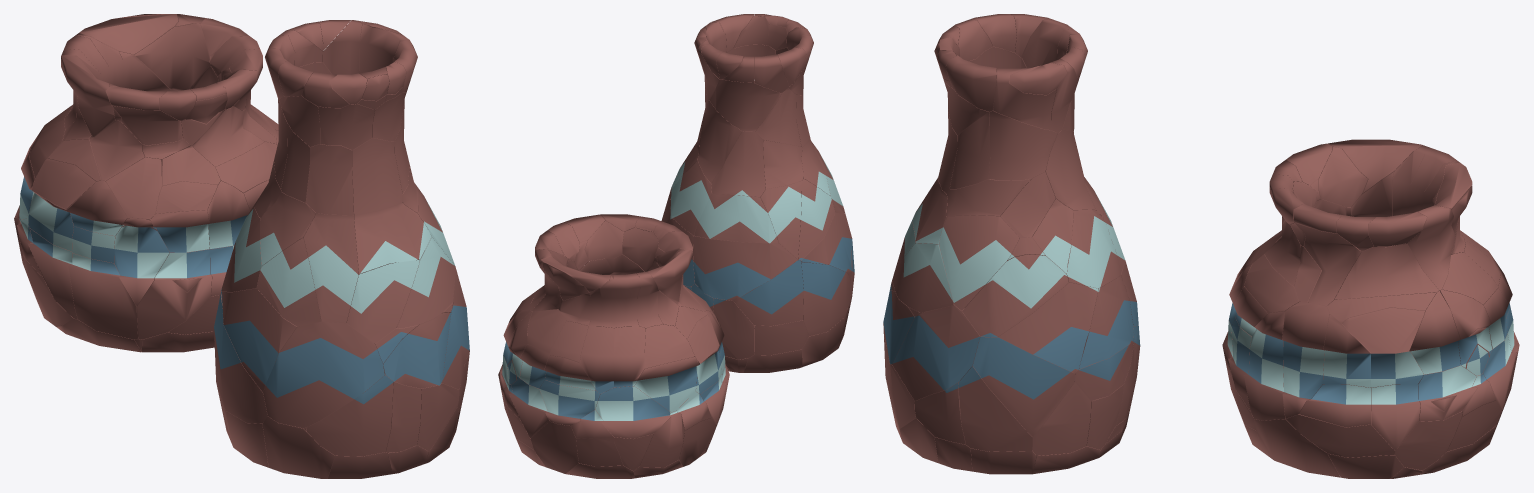
Rendered from StuffToDestroy_Pack_Fractured_1.fbx.
The picture shows the model from 3 angles, left to right: view 1: azimuth 30°, elevation 25°; view 2: azimuth 150°, elevation 25°; view 3: azimuth 270°, elevation 25°; orthographic projection. The views are drawn at different scales.
Visible parts, largest first — view 1: Topf_2_cell.048, Topf_2_cell.019, Topf_2_cell.039, Topf_1_cell.088, Topf_2_cell.059, Topf_1_cell.072, Topf_2_cell.057, Topf_2_cell.003, Topf_2_cell.030, Topf_2_cell.062, Topf_1_cell.076, Topf_2_cell.013 (+76 smaller); view 2: Topf_2_cell.091, Topf_2_cell.027, Topf_2_cell.002, Topf_2_cell.034, Topf_1_cell.097, Topf_2_cell.049, Topf_2_cell, Topf_1_cell.016, Topf_2_cell.072, Topf_2_cell.017, Topf_2_cell.031, Topf_2_cell.060 (+65 smaller); view 3: Topf_2_cell.007, Topf_2_cell.058, Topf_2_cell.080, Topf_2_cell.067, Topf_2_cell.086, Topf_1_cell.068, Topf_2_cell.020, Topf_1_cell.079, Topf_1_cell.009, Topf_2_cell.029, Topf_2_cell.031, Topf_2_cell.015 (+65 smaller).
Part boxes in pixels (x1,y1,x2,y2): Topf_2_cell.048: (263, 321, 384, 428); Topf_2_cell.019: (303, 213, 358, 322); Topf_2_cell.039: (221, 288, 297, 392); Topf_1_cell.088: (137, 249, 211, 339); Topf_2_cell.059: (306, 375, 393, 456); Topf_1_cell.072: (68, 253, 137, 339); Topf_2_cell.057: (354, 202, 431, 274); Topf_2_cell.003: (346, 260, 419, 343); Topf_2_cell.030: (256, 238, 320, 326); Topf_2_cell.062: (383, 312, 451, 388); Topf_1_cell.076: (134, 23, 210, 90); Topf_2_cell.013: (352, 138, 402, 215); Topf_2_cell.091: (693, 236, 797, 300); Topf_2_cell.027: (694, 194, 778, 243); Topf_2_cell.002: (801, 262, 850, 336); Topf_2_cell.034: (733, 260, 803, 325); Topf_1_cell.097: (595, 386, 670, 438); Topf_2_cell.049: (711, 131, 765, 197); Topf_2_cell: (710, 79, 781, 131); Topf_1_cell.016: (635, 357, 699, 412); Topf_2_cell.072: (760, 180, 801, 259); Topf_2_cell.017: (697, 100, 741, 183); Topf_2_cell.031: (670, 161, 711, 235); Topf_2_cell.060: (798, 179, 835, 260); Topf_2_cell.007: (892, 305, 980, 400); Topf_2_cell.058: (972, 336, 1074, 436); Topf_2_cell.080: (962, 254, 1068, 337); Topf_2_cell.067: (939, 215, 1019, 310); Topf_2_cell.086: (998, 282, 1098, 373); Topf_1_cell.068: (1282, 302, 1329, 418); Topf_2_cell.020: (958, 366, 1032, 451); Topf_1_cell.079: (1334, 243, 1438, 299); Topf_1_cell.009: (1244, 311, 1285, 420); Topf_2_cell.029: (988, 110, 1057, 180); Topf_2_cell.031: (1066, 209, 1120, 288); Topf_2_cell.015: (892, 243, 954, 312).
Bounding box in the file's own units: 531 × 362 × 244.
